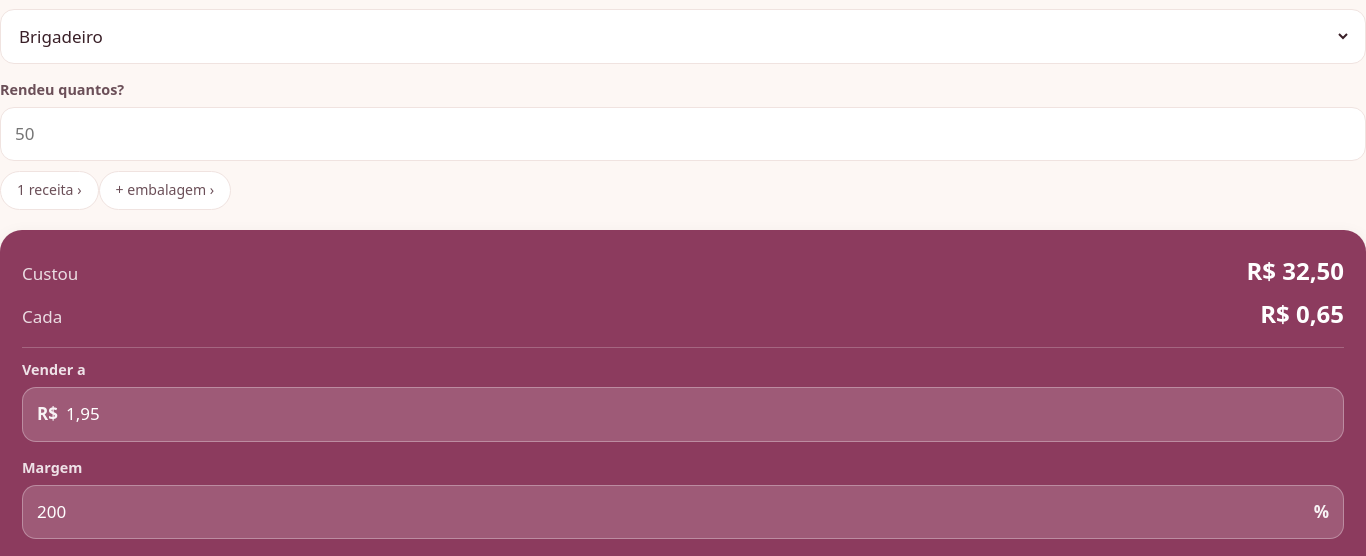
Test case: Calculadora › o aviso de rendimento compara sem embalagem dos dois lados
Type "71" into the field labelled "Rendeu quantos?". click: (683, 134)
box: [15,108,1351,160]
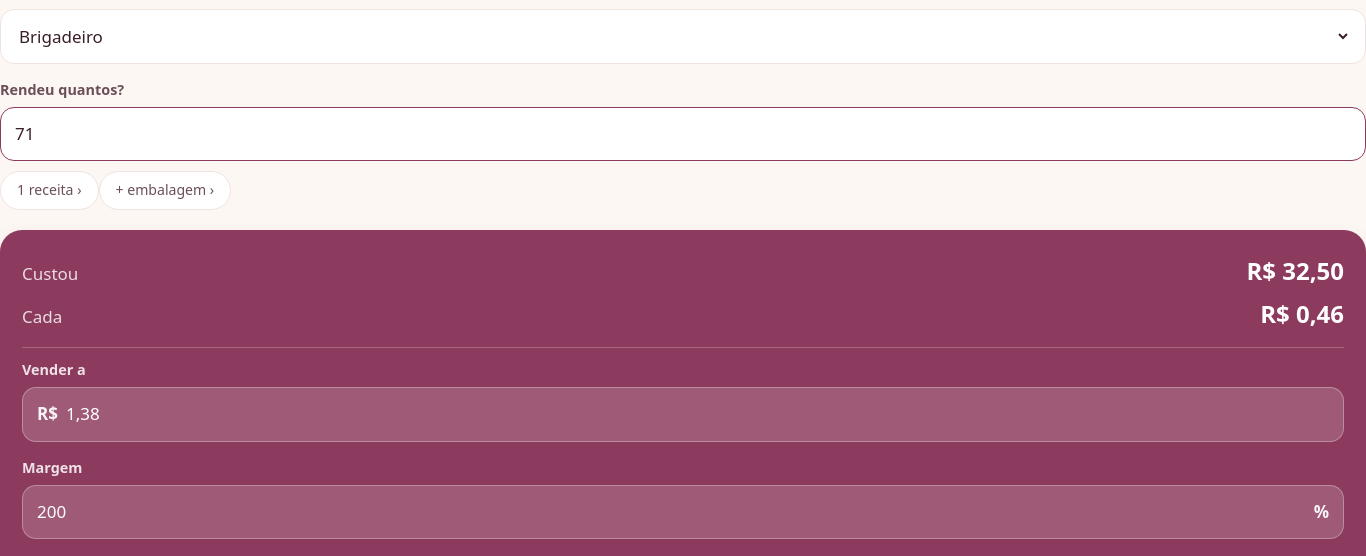
Click the button with test id "embalagem-chip". click: click(165, 191)
box: [98,171,231,210]
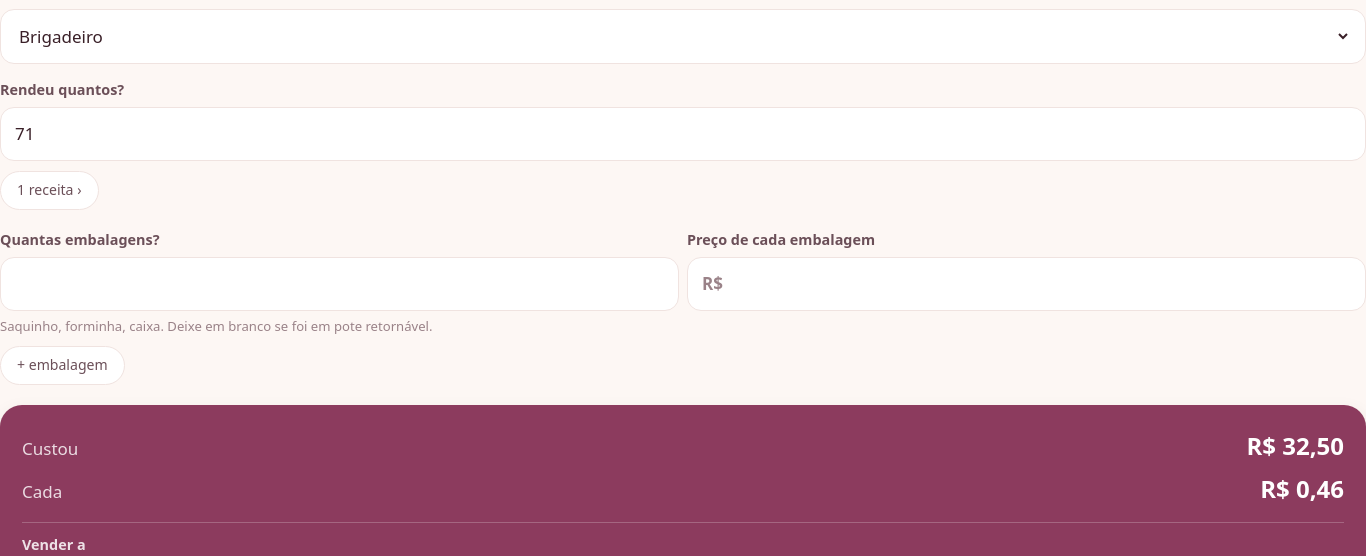
Type "71" into the field labelled "Quantas embalagens?". click: (340, 284)
box: [15,258,664,310]
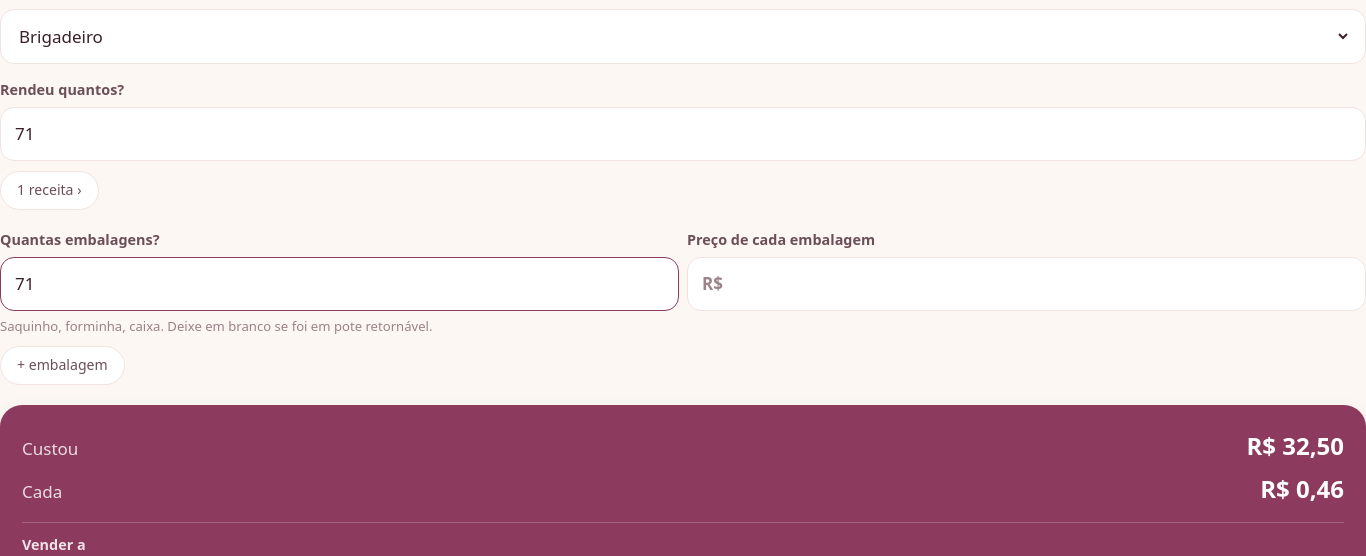
Type "0,27" into the field labelled "Preço de cada embalagem". click: (1041, 284)
box: [731,258,1351,310]
(page scrolled)
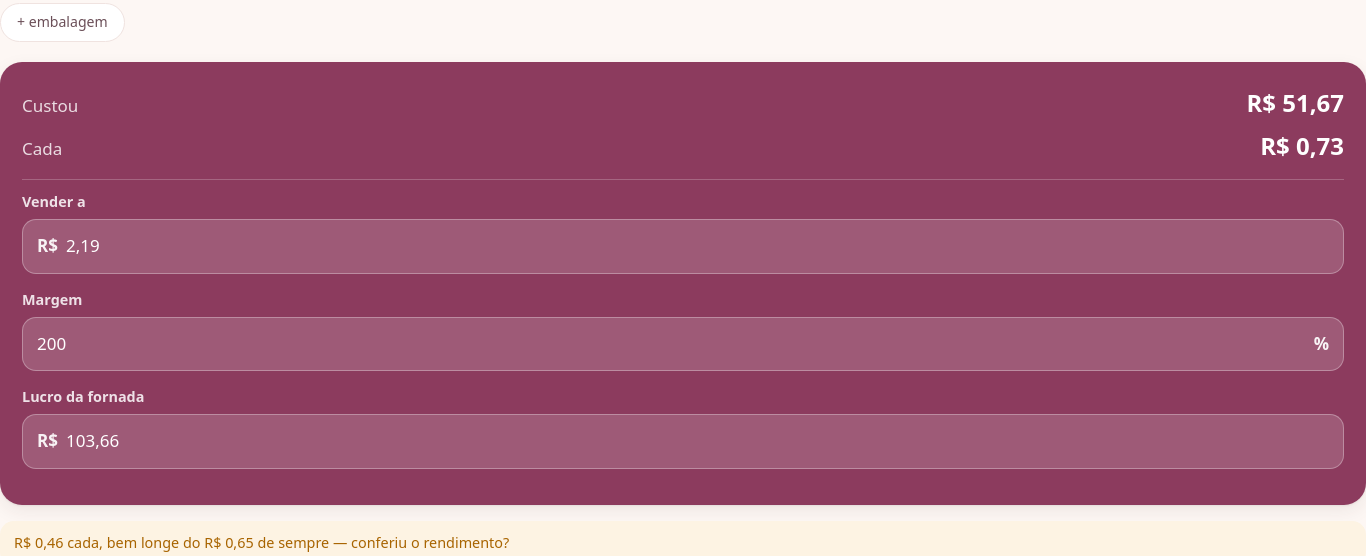
Expected: the element with test id "aviso-rendimento" does not show "R$ 0,73"
Result: the message with test id "aviso-rendimento" shows "R$ 0,46" at [14,533,509,552]
Result: the text with test id "custo-cada" reads "R$ 0,73" at [1260,128,1344,162]
